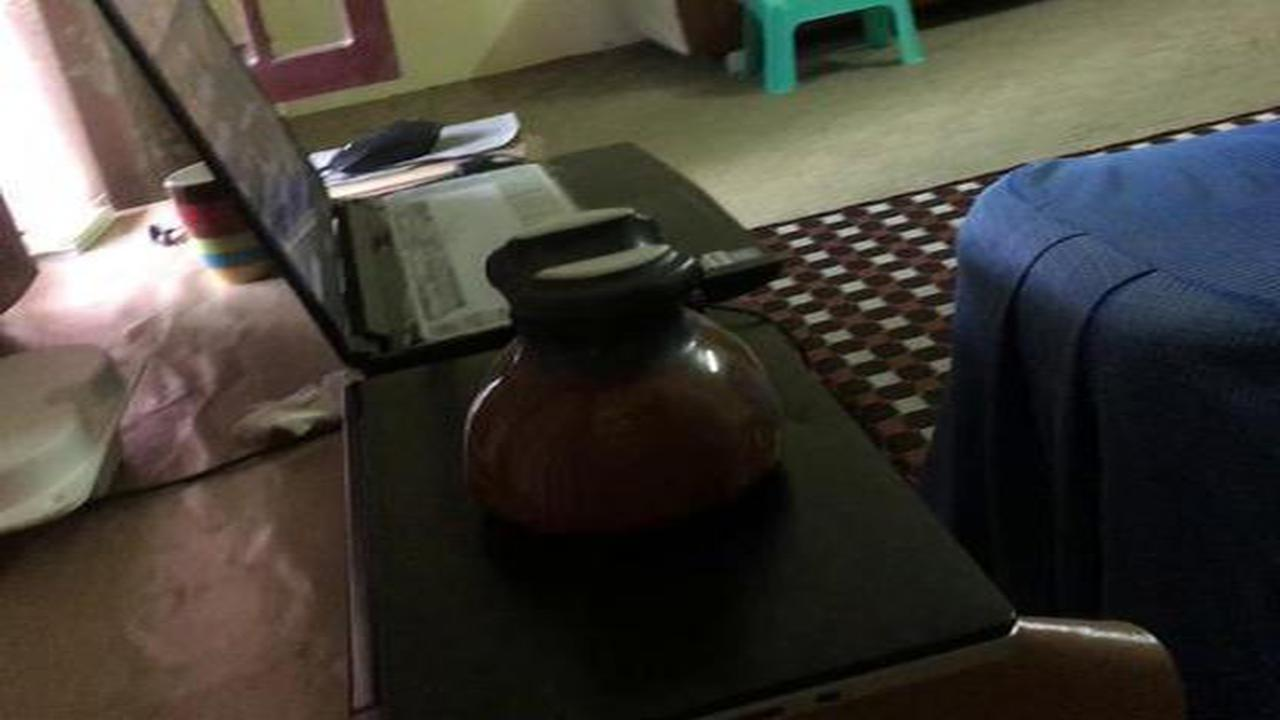insulator_pin: (424, 200, 819, 558)
